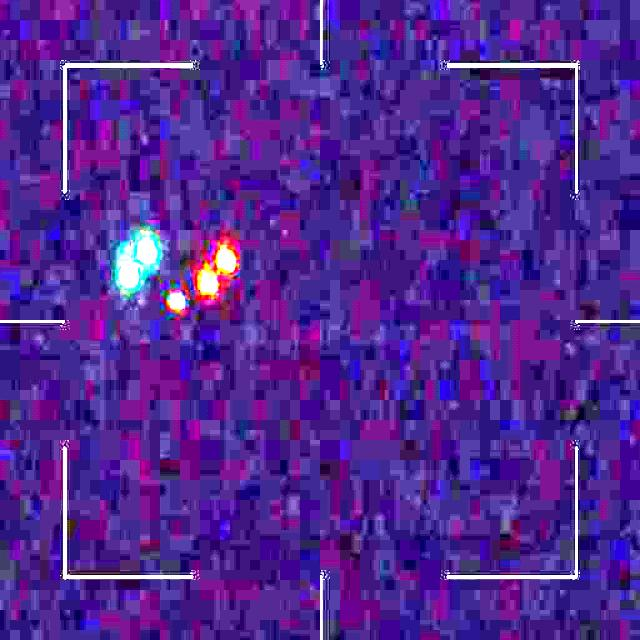bird: (116, 235, 236, 311)
